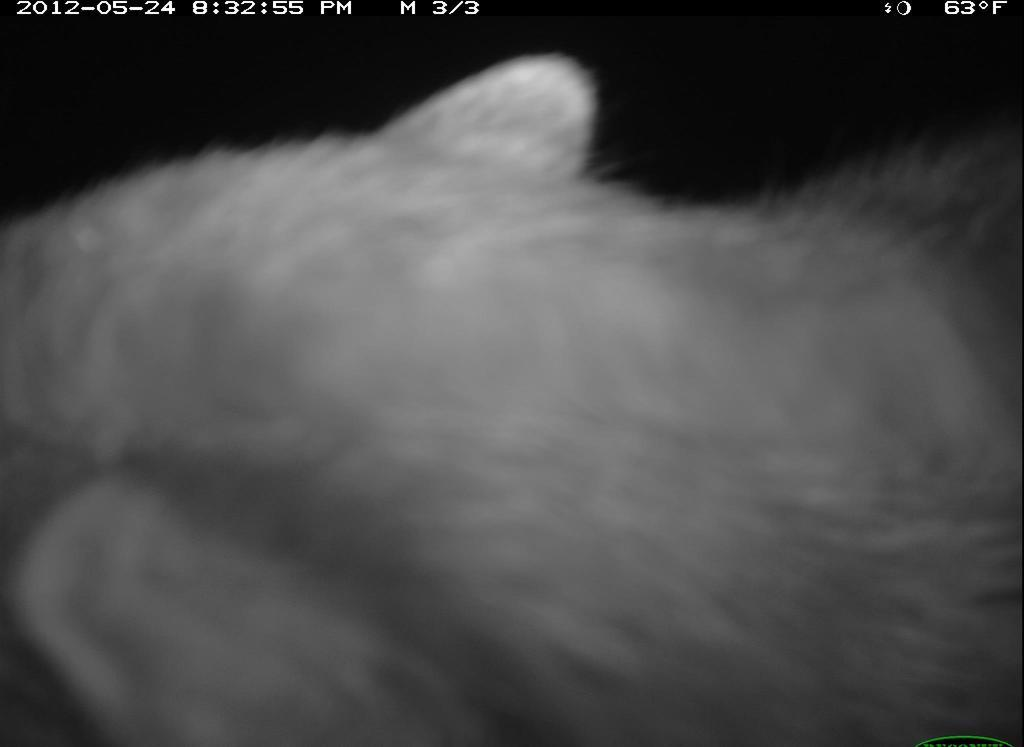raccoon: (2, 53, 1022, 747)
